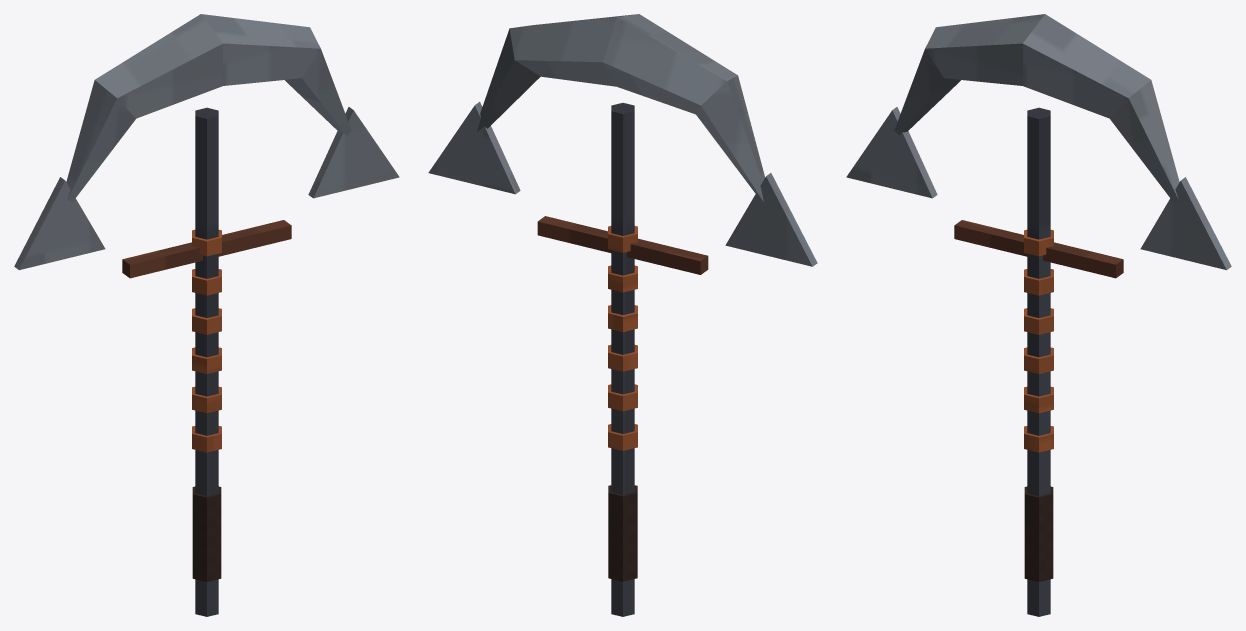
The model's file is SM_Prop_AnchorHammer_HQ.glb.
3 views of the same model, side by side, from view 1: azimuth 30°, elevation 25°; view 2: azimuth 150°, elevation 25°; view 3: azimuth 330°, elevation 25° (orthographic).
Visible parts, largest first — view 1: SM_Prop_AnchorHammer_HQ; view 2: SM_Prop_AnchorHammer_HQ; view 3: SM_Prop_AnchorHammer_HQ.
Boxes of the visible parts, left/top/right/bottom form: SM_Prop_AnchorHammer_HQ: left=14, top=14, right=399, bottom=616; SM_Prop_AnchorHammer_HQ: left=428, top=14, right=817, bottom=616; SM_Prop_AnchorHammer_HQ: left=846, top=14, right=1231, bottom=616.
Bounding box in the file's own units: 1.32 × 1.96 × 0.2171.
1 material, 1 textured.
